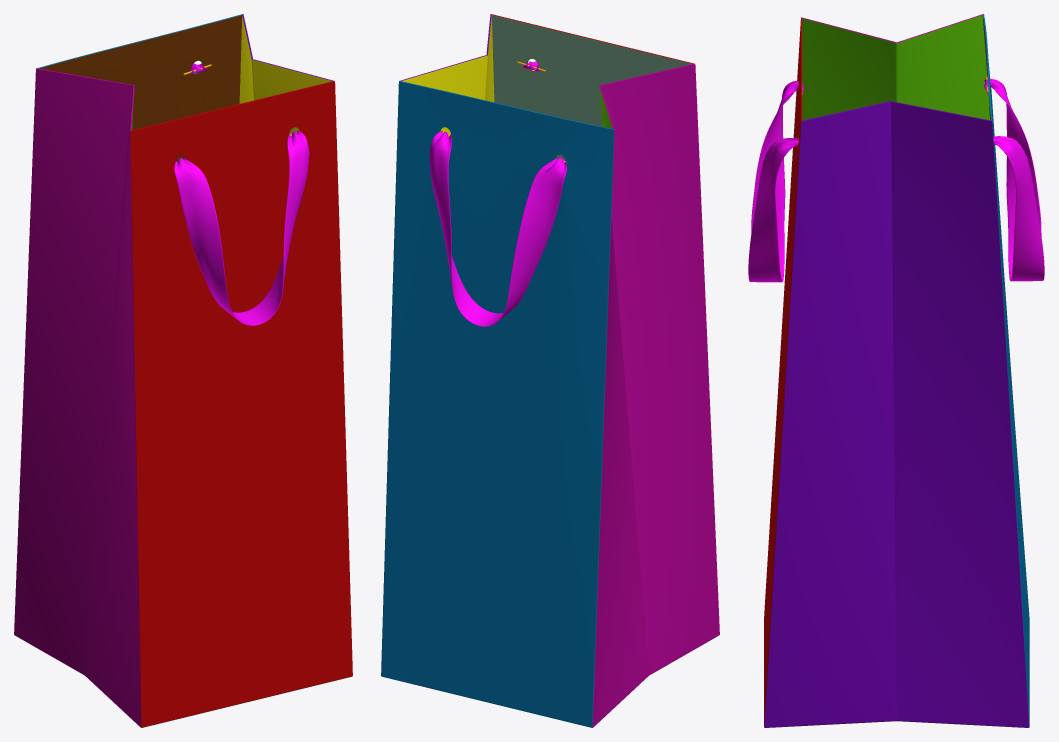
The model's file is wine_paper_bag.glb.
The picture shows the model from 3 angles, left to right: view 1: azimuth 30°, elevation 25°; view 2: azimuth 150°, elevation 25°; view 3: azimuth 270°, elevation 25°; orthographic projection. The views are drawn at different scales.
Visible parts, largest first — view 1: wine_paper_bag; view 2: wine_paper_bag; view 3: wine_paper_bag.
Boxes of the visible parts, bbox=[...] form: wine_paper_bag: bbox=[14, 14, 352, 727]; wine_paper_bag: bbox=[381, 14, 719, 727]; wine_paper_bag: bbox=[748, 14, 1044, 727].
Bounding box in the file's own units: 0.1148 × 0.302 × 0.1336.
